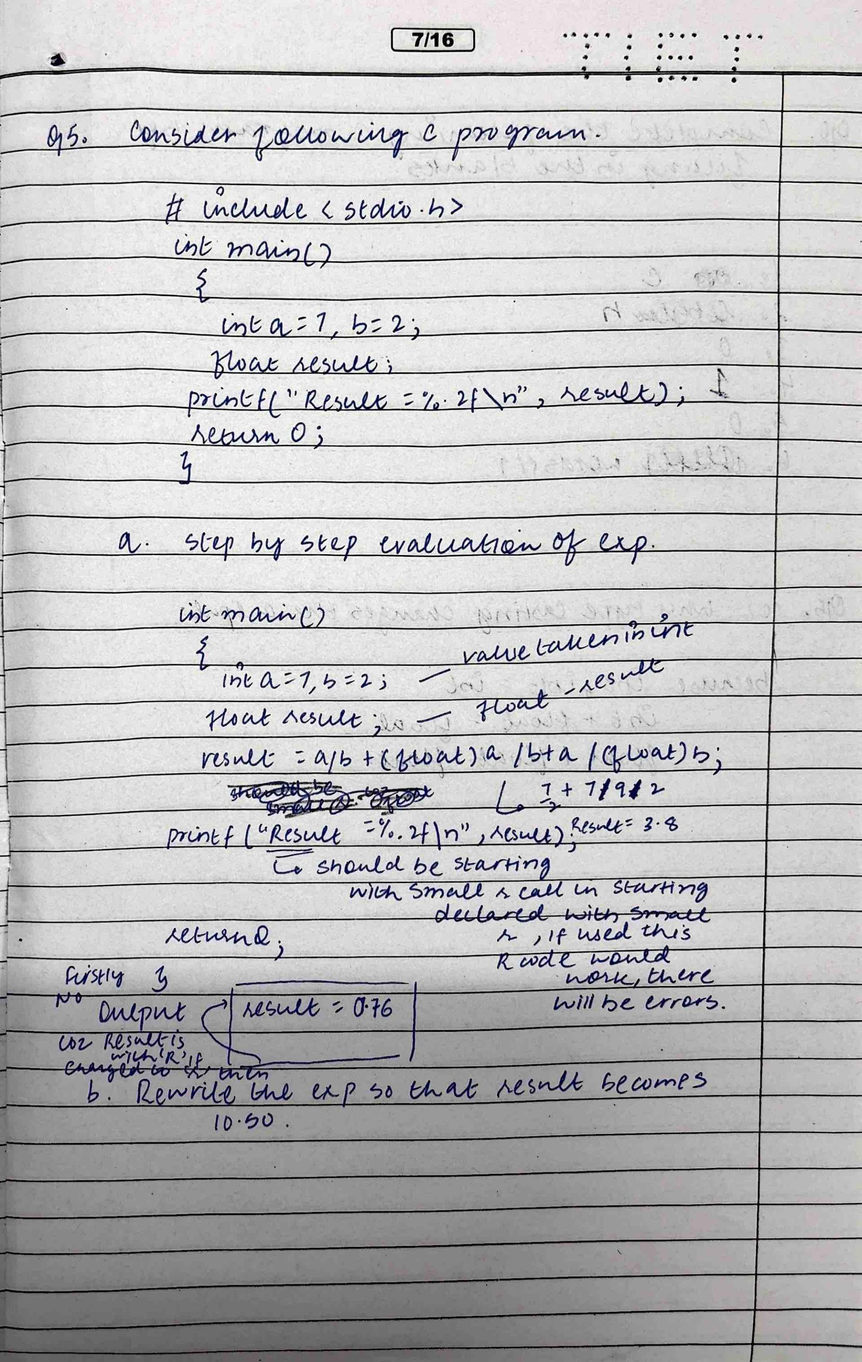cuttings: (224, 778, 437, 821), (598, 778, 612, 801), (628, 778, 642, 799)
